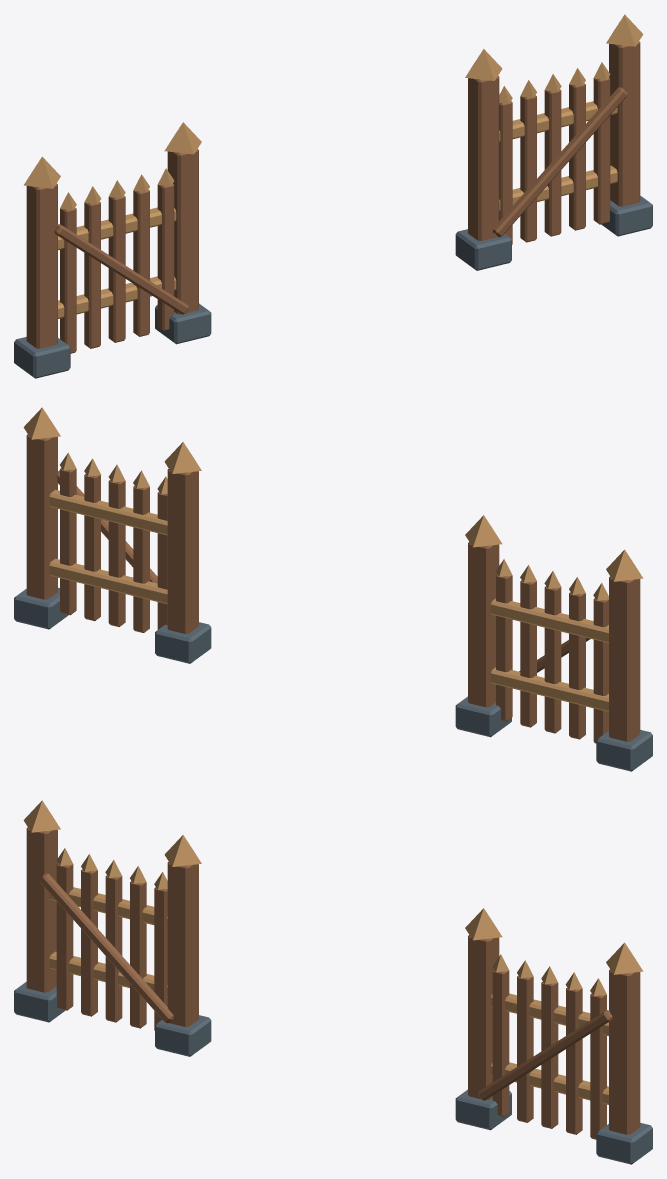
The model's file is wayfarer_open_gate.glb.
The picture shows the model from 3 angles, top to bottom: view 1: azimuth 30°, elevation 25°; view 2: azimuth 150°, elevation 25°; view 3: azimuth 330°, elevation 25°; orthographic projection.
Parts seen in each view (by area): view 1: wayfarer_open_gate_Geometry; view 2: wayfarer_open_gate_Geometry; view 3: wayfarer_open_gate_Geometry.
Part boxes in pixels (bbox=[...]): wayfarer_open_gate_Geometry: bbox=[14, 14, 652, 378]; wayfarer_open_gate_Geometry: bbox=[14, 407, 652, 771]; wayfarer_open_gate_Geometry: bbox=[14, 800, 652, 1164].
Bounding box in the file's own units: 6.6 × 2.15 × 0.4.
